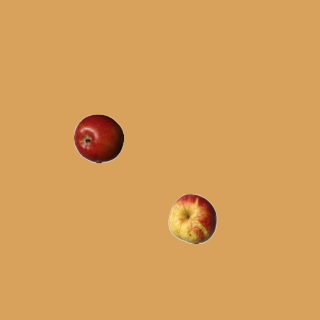Apple Braeburn: (73, 113, 123, 163)
Apple Red Yellow 1: (167, 193, 217, 243)
